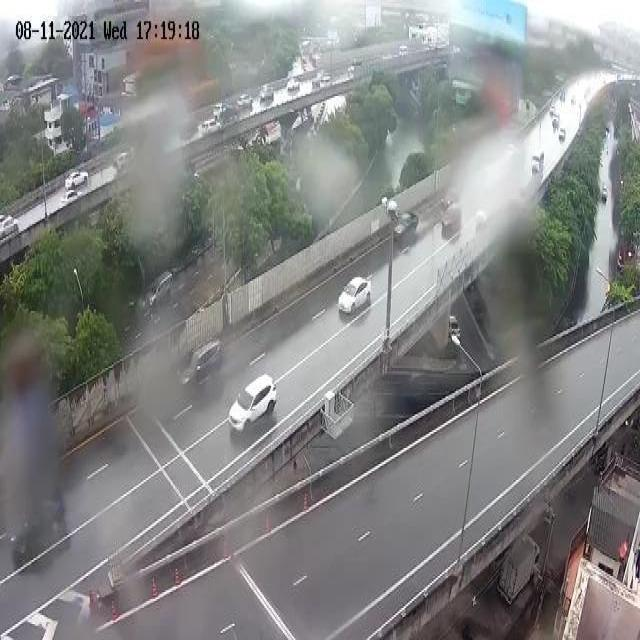Car: (228, 375, 278, 435), (337, 277, 372, 316), (393, 214, 419, 239), (66, 171, 89, 190), (449, 316, 460, 337), (286, 78, 300, 94)
Truck: (496, 534, 541, 603)
